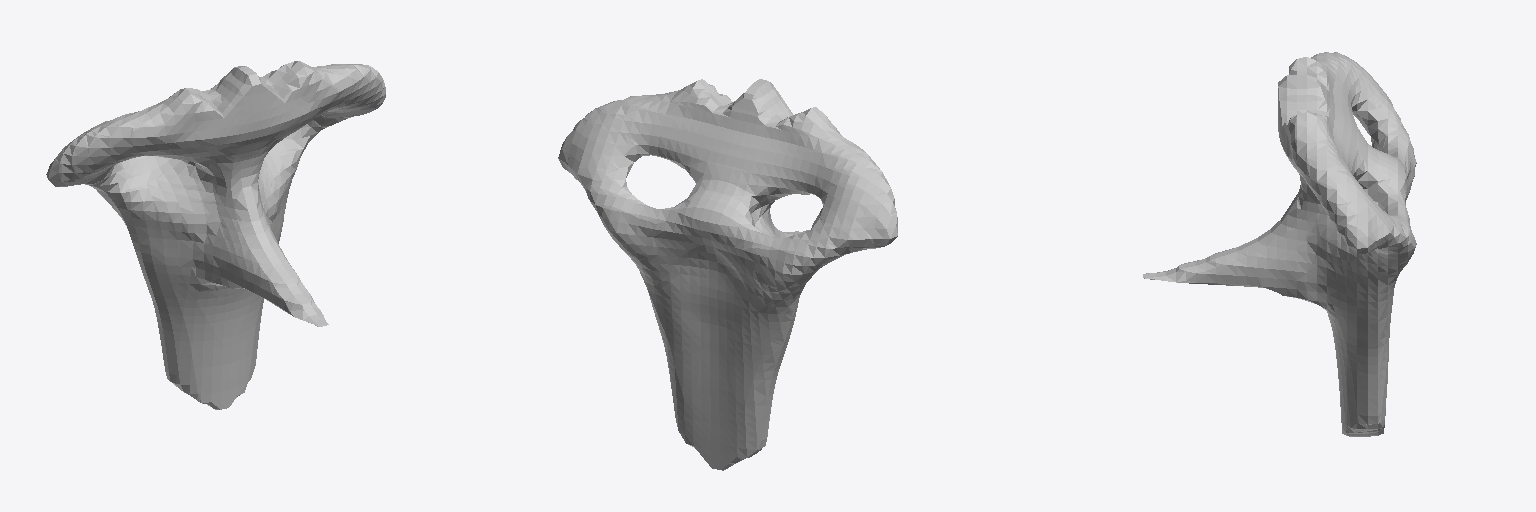
File: mask.obj
3 views of the same model, side by side, from view 1: azimuth 30°, elevation 25°; view 2: azimuth 150°, elevation 25°; view 3: azimuth 270°, elevation 25° (orthographic).
Visible parts, largest first — view 1: Layer_1; view 2: Layer_1; view 3: Layer_1.
Part boxes in pixels (left/top/right/bottom): Layer_1: left=46, top=61, right=385, bottom=409; Layer_1: left=558, top=79, right=897, bottom=470; Layer_1: left=1143, top=52, right=1416, bottom=436.
Bounding box in the file's own units: 1.85 × 1.87 × 1.3.